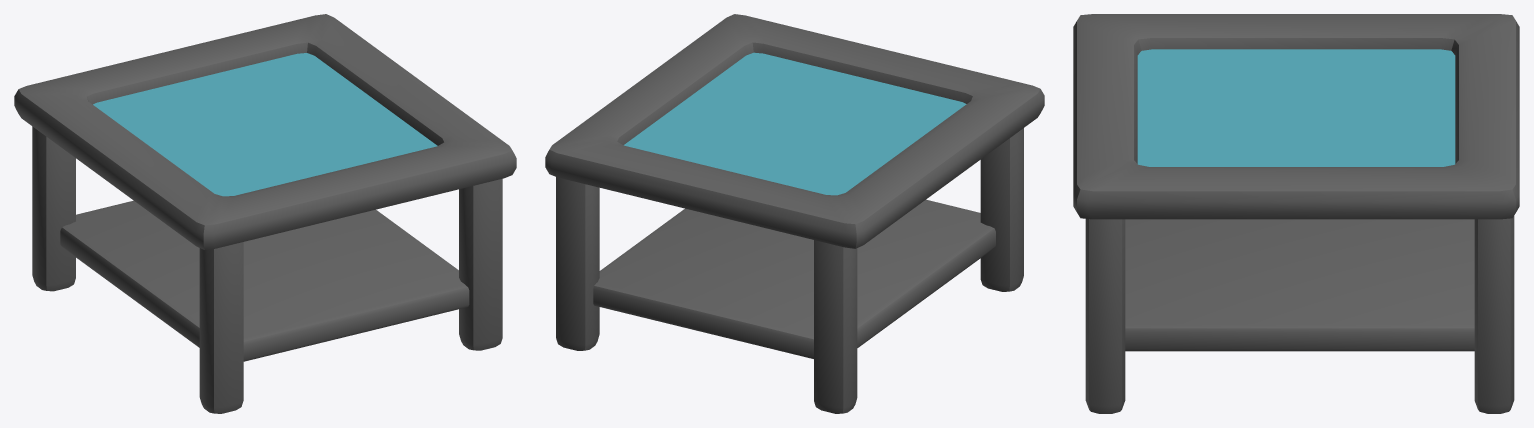
The model's file is SM_table_small_04.fbx.
The picture shows the model from 3 angles, left to right: view 1: azimuth 30°, elevation 25°; view 2: azimuth 150°, elevation 25°; view 3: azimuth 270°, elevation 25°; orthographic projection. The views are drawn at different scales.
Visible parts, largest first — view 1: Box357; view 2: Box357; view 3: Box357.
Part boxes in pixels (left/top/right/bottom): Box357: left=14, top=14, right=516, bottom=413; Box357: left=545, top=14, right=1044, bottom=413; Box357: left=1073, top=14, right=1519, bottom=413.
Size of the model in its own units: 48.48 by 29.26 by 50.72.
